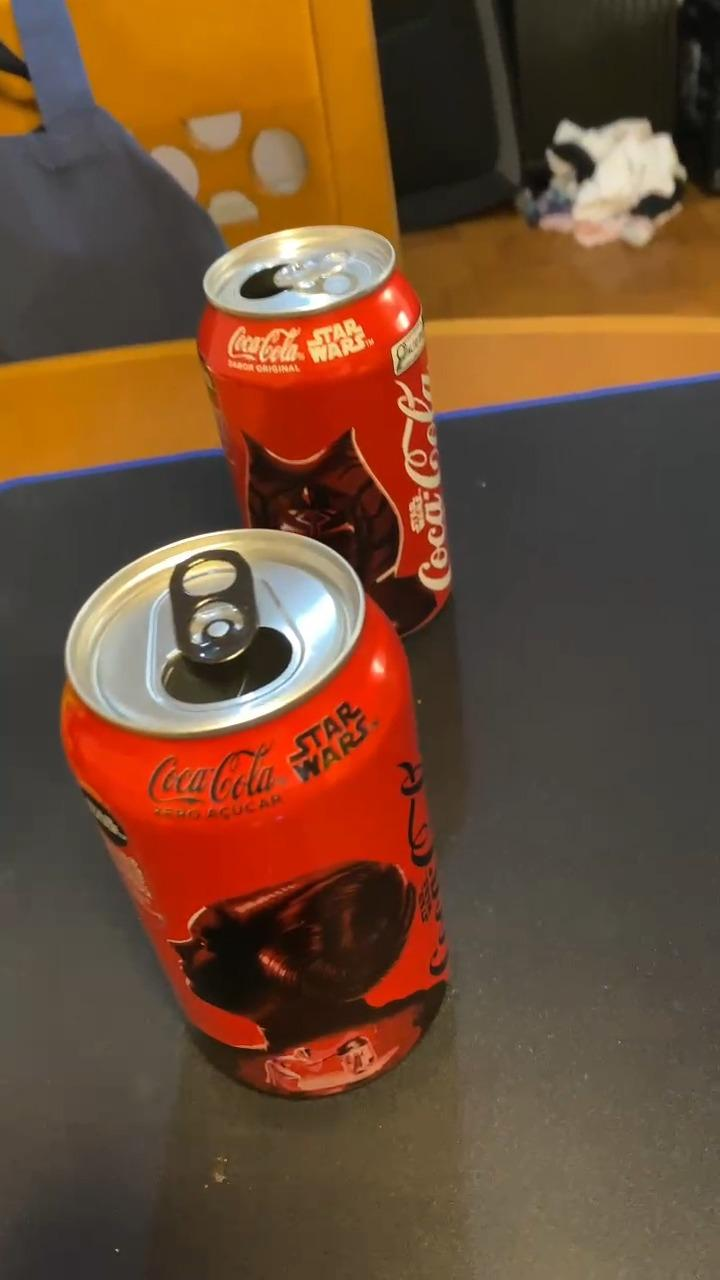coke: (60, 527, 450, 1094), (193, 226, 452, 642)
